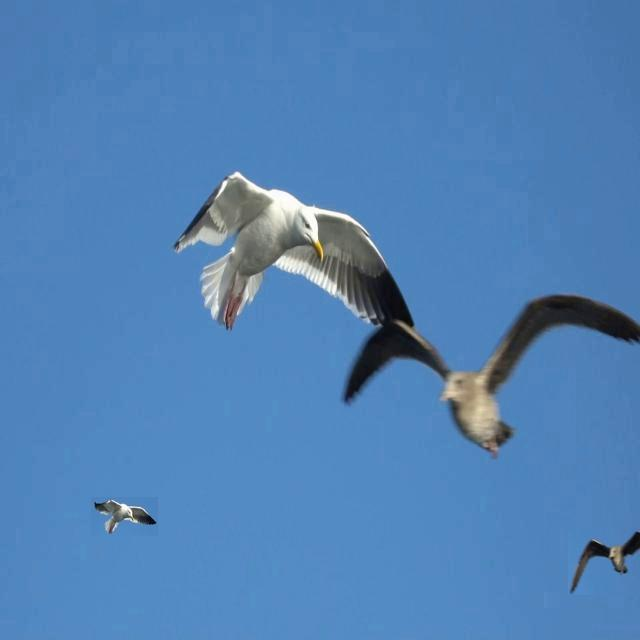bird: (338, 292, 640, 467), (160, 165, 421, 351), (570, 522, 640, 594), (95, 499, 157, 535)
